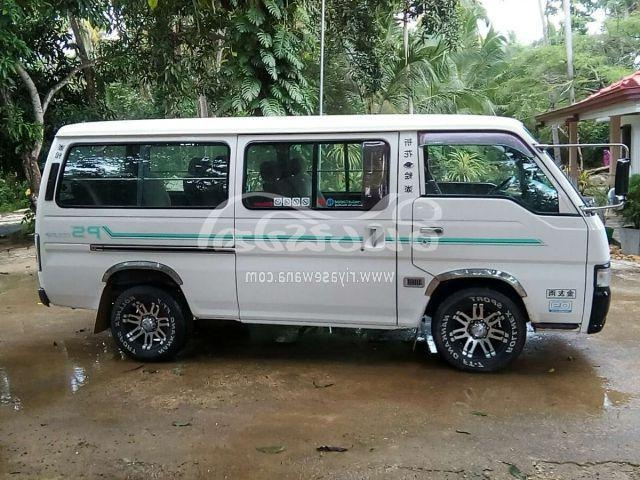van: (30, 104, 627, 395)
